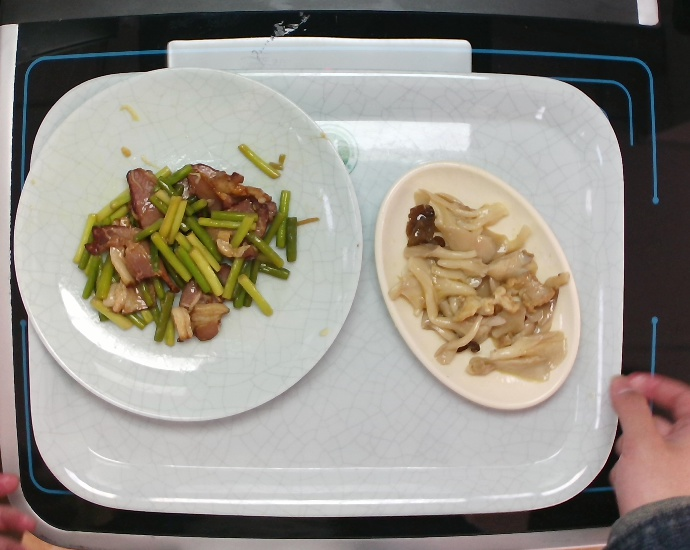JYsf-Da_Yuan_Pan: (8, 61, 365, 428)
JYsf-Tuo_Yuan_Wan: (369, 158, 590, 417)
